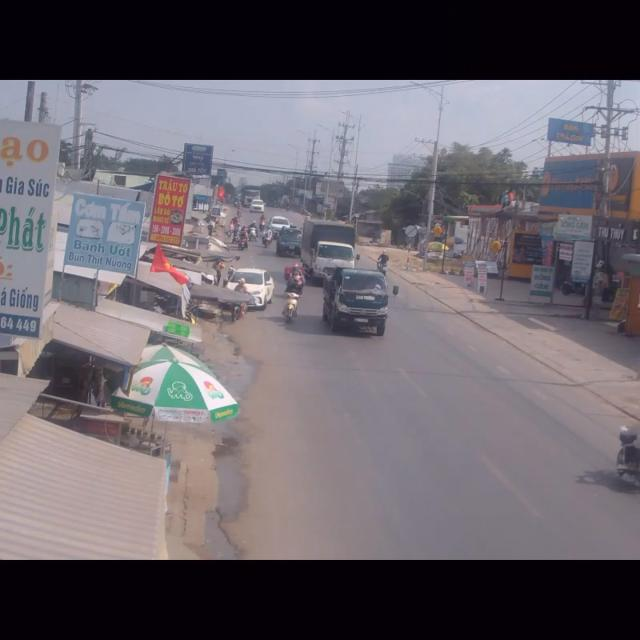motorbike: (617, 422, 640, 481), (284, 280, 303, 322)
truck: (322, 268, 386, 336), (302, 221, 354, 291)
